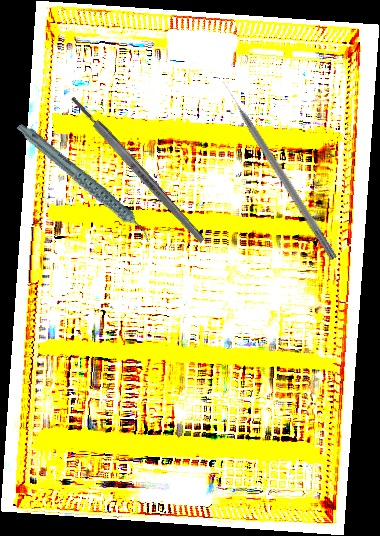Handpiece: (15, 100, 153, 267)
Pusher: (219, 77, 340, 262)
Scalpel Handle: (68, 94, 207, 245)
